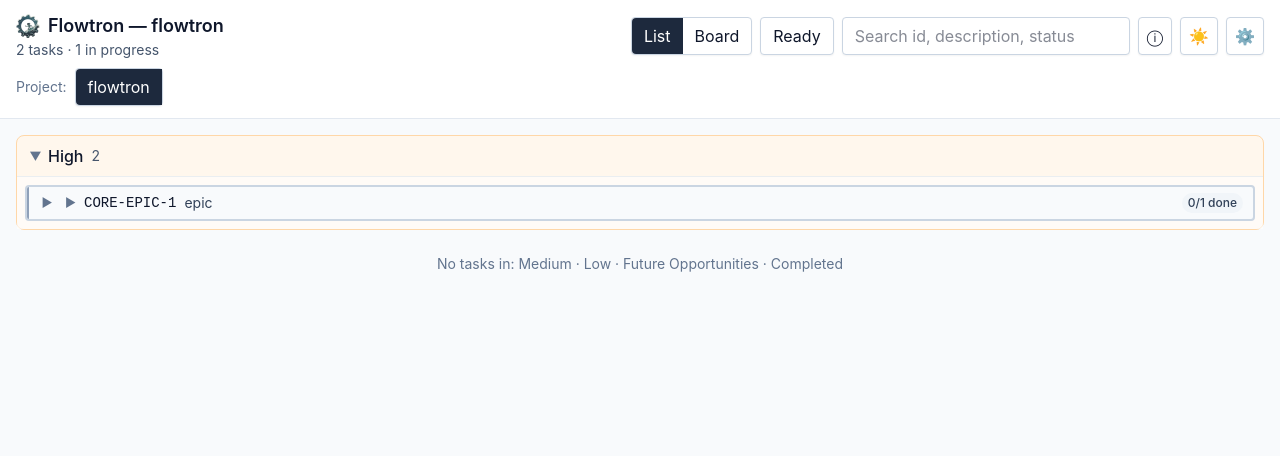
Test case: App — subtask expand-on-click toggling › reveals TaskDetail on first click of a subtask and hides it on the second click
Check: the text "CORE-EPIC-1" is shown, box x1=84 y1=193 x2=176 y2=213
Step 1. Click the button named "Expand subtasks" → (47, 203), box x1=37 y1=193 x2=57 y2=213
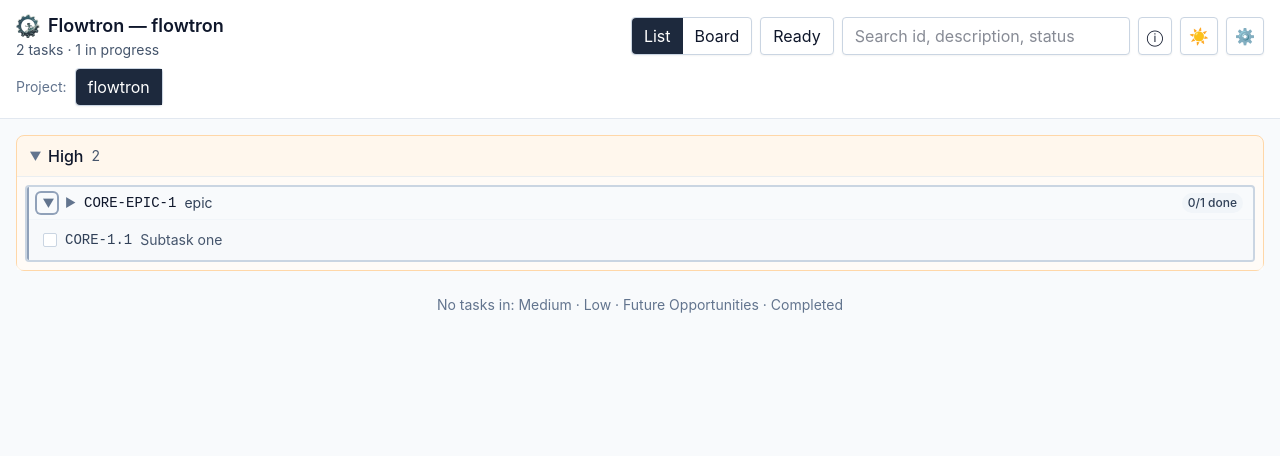
Check: the text "The subtask goal sentence." is not shown
Check: the button named "Collapse subtasks" is shown, box x1=37 y1=193 x2=57 y2=213
Step 2. Click the button "CORE-1.1 Subtask one" → (99, 240), box x1=65 y1=230 x2=1237 y2=250
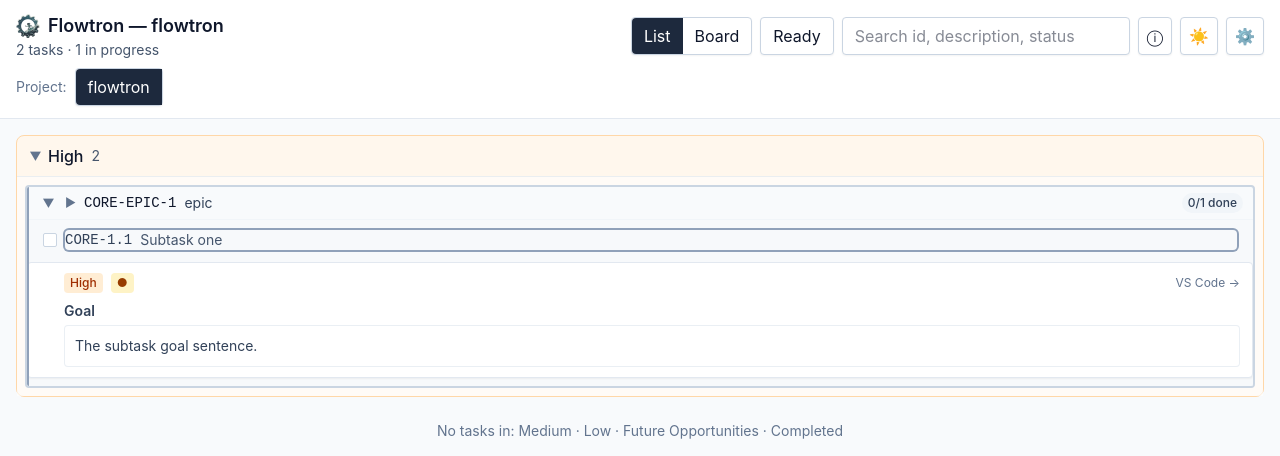
Check: the text "The subtask goal sentence." is shown, box x1=75 y1=337 x2=257 y2=354
Step 3. Click the button "CORE-1.1 Subtask one" → (99, 240), box x1=65 y1=230 x2=1237 y2=250
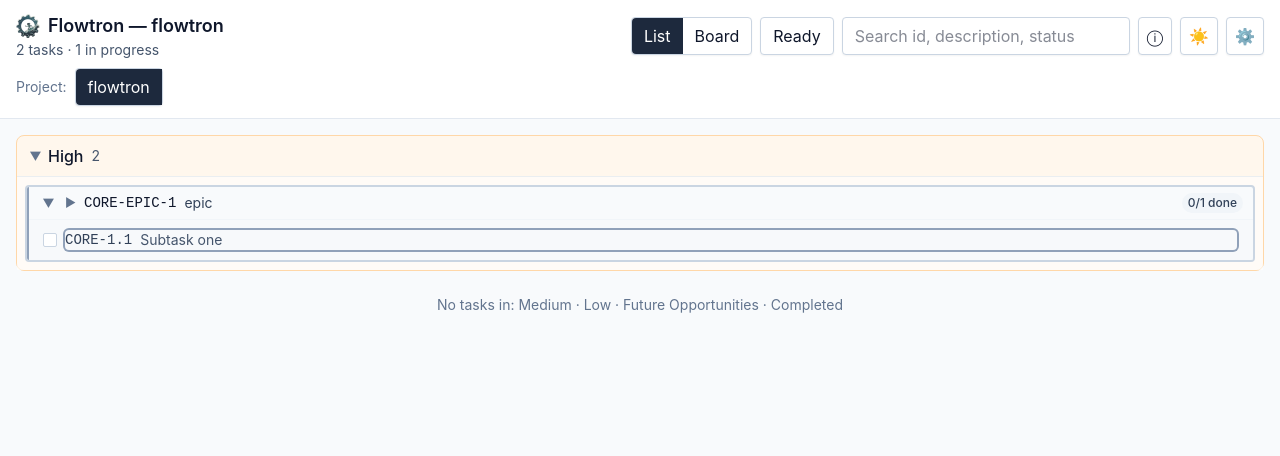
Check: the text "The subtask goal sentence." is gone
